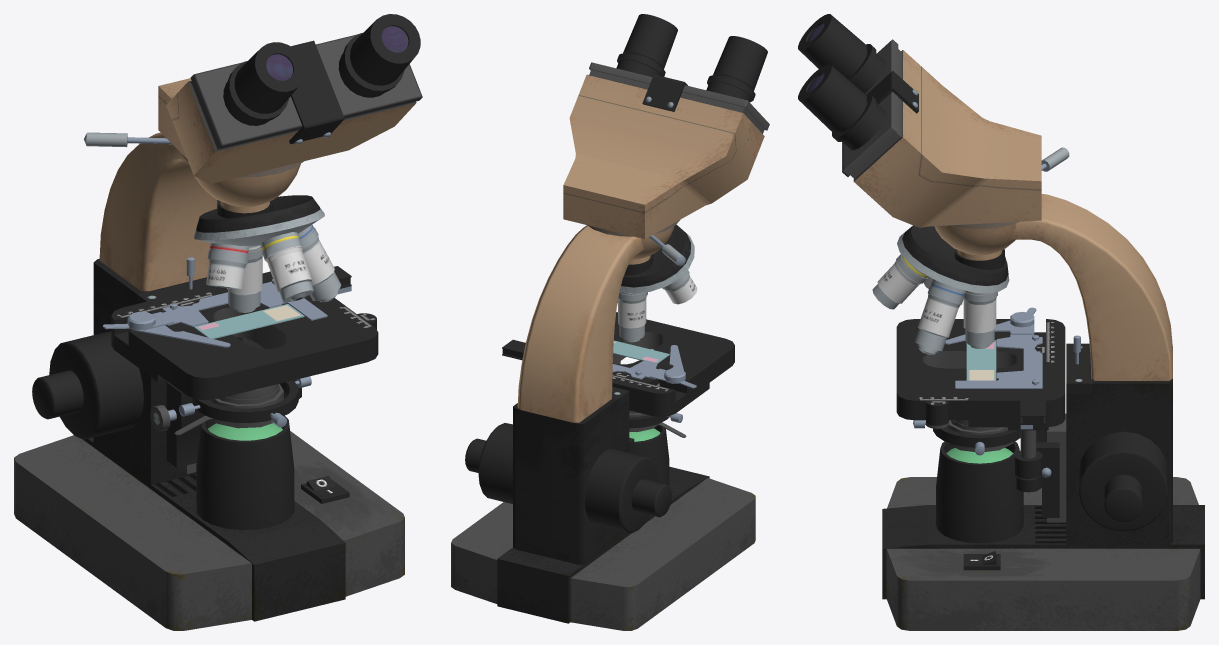
Rendered from bio_microscope.glb.
3 views of the same model, side by side, from view 1: azimuth 30°, elevation 25°; view 2: azimuth 150°, elevation 25°; view 3: azimuth 270°, elevation 25° (orthographic). The views are drawn at different scales.
Parts seen in each view (by area): view 1: node_binocularMicroscope1_-208278; view 2: node_binocularMicroscope1_-208278; view 3: node_binocularMicroscope1_-208278.
Boxes of the visible parts, x1,y1,x2,y2 form: node_binocularMicroscope1_-208278: (14, 14, 422, 630); node_binocularMicroscope1_-208278: (451, 14, 769, 630); node_binocularMicroscope1_-208278: (798, 14, 1204, 630).
Size of the model in its own units: 0.1445 by 0.33 by 0.2265.
1 material, 1 textured.
